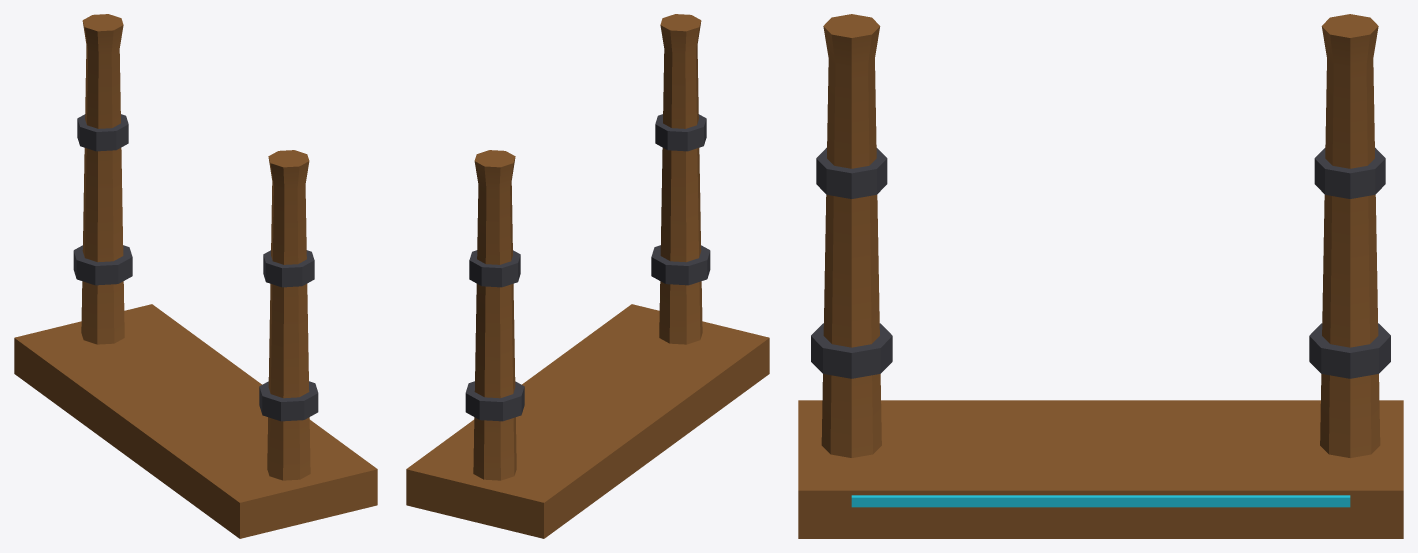
Rendered from powered.glb.
3 views of the same model, side by side, from view 1: azimuth 30°, elevation 25°; view 2: azimuth 150°, elevation 25°; view 3: azimuth 270°, elevation 25° (orthographic). The views are drawn at different scales.
Visible parts, largest first — view 1: frame, dark; view 2: frame, dark; view 3: frame, dark, glow.
Boxes of the visible parts, x1,y1,x2,y2 form: frame: (14, 14, 377, 538); dark: (73, 114, 318, 421); frame: (406, 14, 769, 538); dark: (465, 114, 710, 421); frame: (798, 14, 1403, 538); dark: (811, 147, 1390, 378); glow: (851, 495, 1350, 507).
Bounding box in the file's own units: 1.23 × 2.9 × 3.4.
